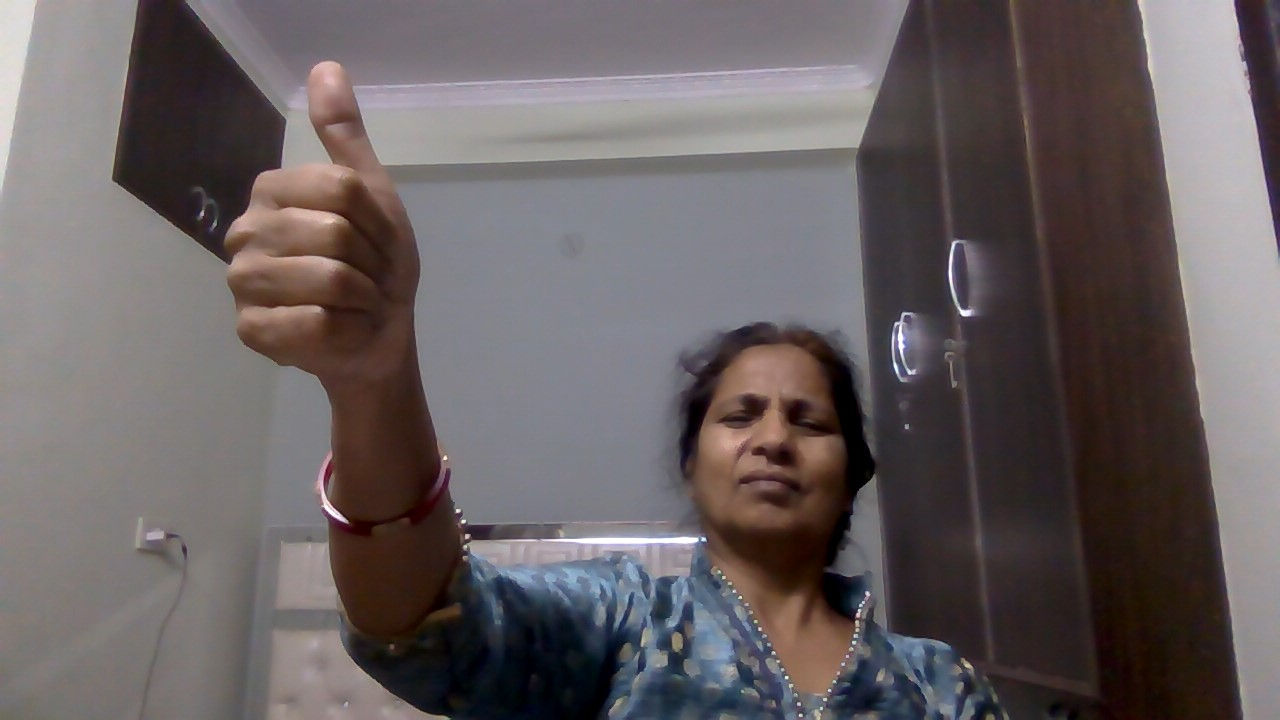Save: (213, 53, 442, 396)
